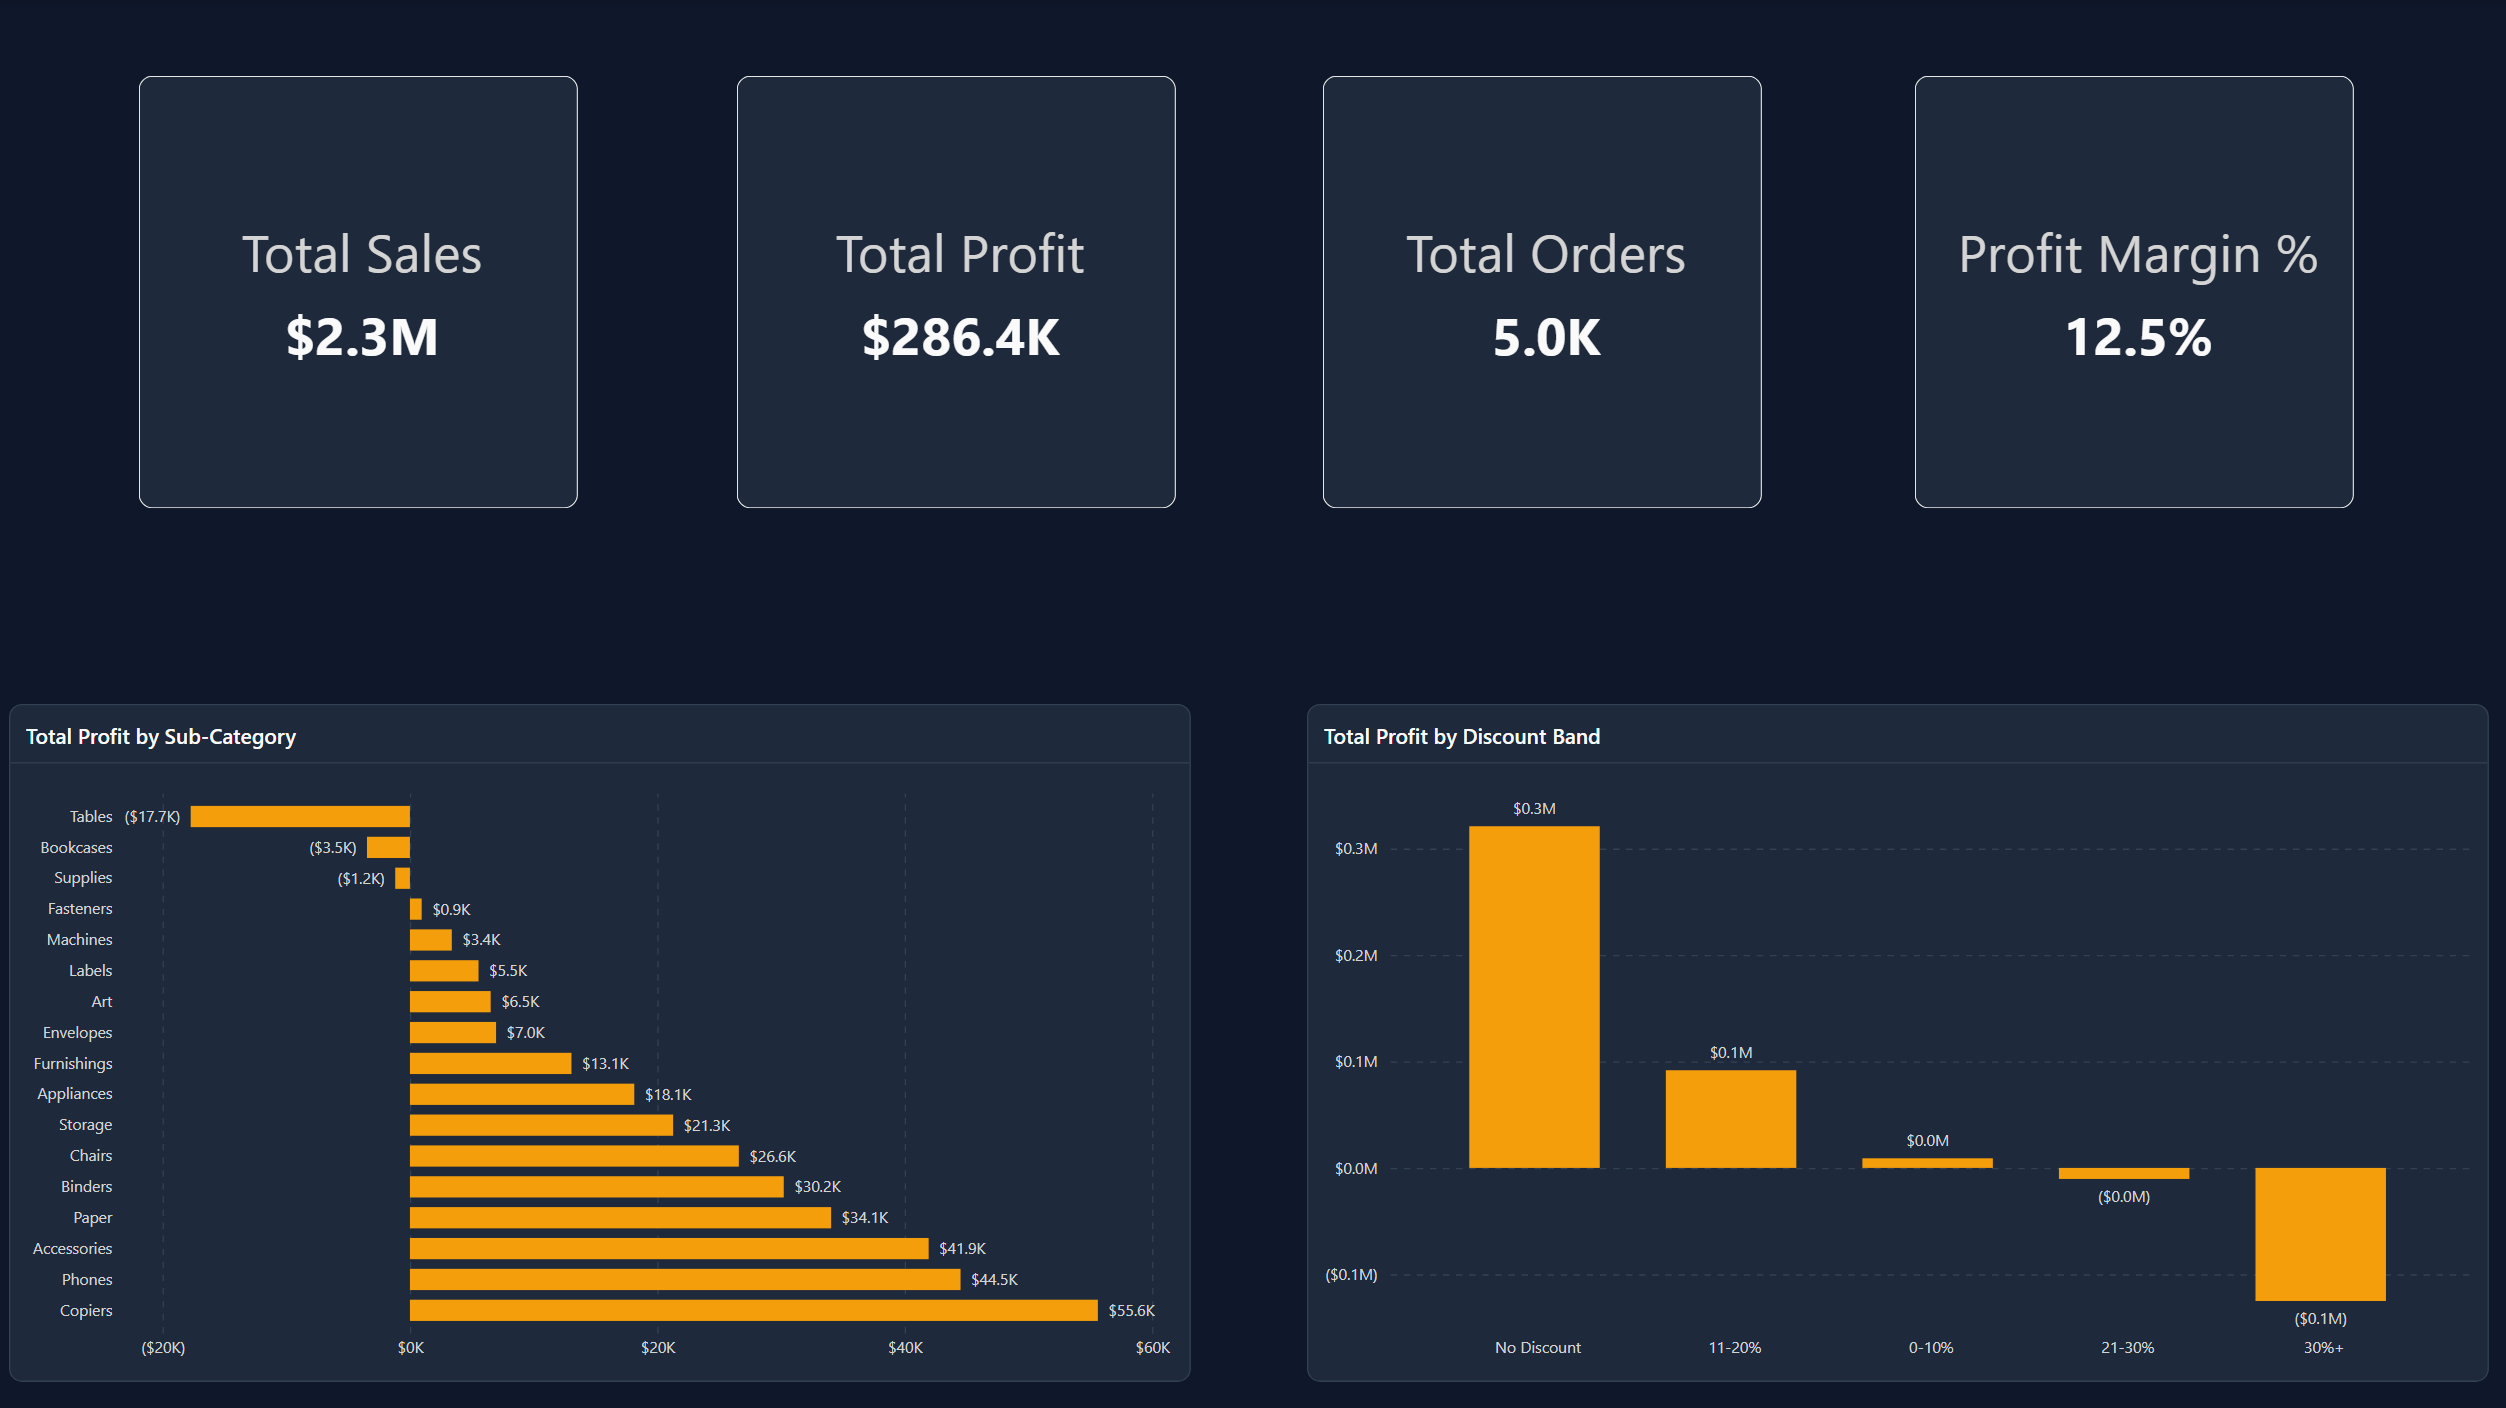

What the dashboard file says about the page in this screenshot:
{"tool":"powerbi","page":{"name":"Page 1","canvas":[1920,1080],"ordinal":0},"visuals":[{"type":"cardVisual","fields":{"Data":["CleanedDataTable.Total Sales"]},"box":[97.1,47.7,360.5,355.6],"z":0},{"type":"cardVisual","fields":{"Data":["CleanedDataTable.Total Profit"]},"box":[553.2,47.7,360.5,355.6],"z":1000},{"type":"cardVisual","fields":{"Data":["CleanedDataTable.Total Orders"]},"box":[1002.6,47.7,360.5,355.6],"z":2000},{"type":"cardVisual","fields":{"Data":["CleanedDataTable.Profit Margin %"]},"box":[1455.4,47.7,360.5,355.6],"z":3000},{"type":"clusteredBarChart","fields":{"Category":["CleanedDataTable.Sub-Category"],"Y":["CleanedDataTable.Total Profit"]},"box":[9.9,540,903.8,518.6],"z":3001},{"type":"clusteredColumnChart","fields":{"Category":["CleanedDataTable.Discount Band"],"Y":["CleanedDataTable.Total Profit"]},"box":[1002.6,540,903.8,518.6],"z":3002}]}

Visuals, with their boxes in screenshot pixels (x1, y1, x2, y2), scaled from the page's 1920x1080 canvas onto the 2506x1408 screenshot:
cardVisual - CleanedDataTable.Total Sales: (left=127, top=62, right=597, bottom=526)
cardVisual - CleanedDataTable.Total Profit: (left=722, top=62, right=1193, bottom=526)
cardVisual - CleanedDataTable.Total Orders: (left=1309, top=62, right=1779, bottom=526)
cardVisual - CleanedDataTable.Profit Margin %: (left=1900, top=62, right=2370, bottom=526)
clusteredBarChart - CleanedDataTable.Sub-Category x CleanedDataTable.Total Profit: (left=13, top=704, right=1193, bottom=1380)
clusteredColumnChart - CleanedDataTable.Discount Band x CleanedDataTable.Total Profit: (left=1309, top=704, right=2488, bottom=1380)
